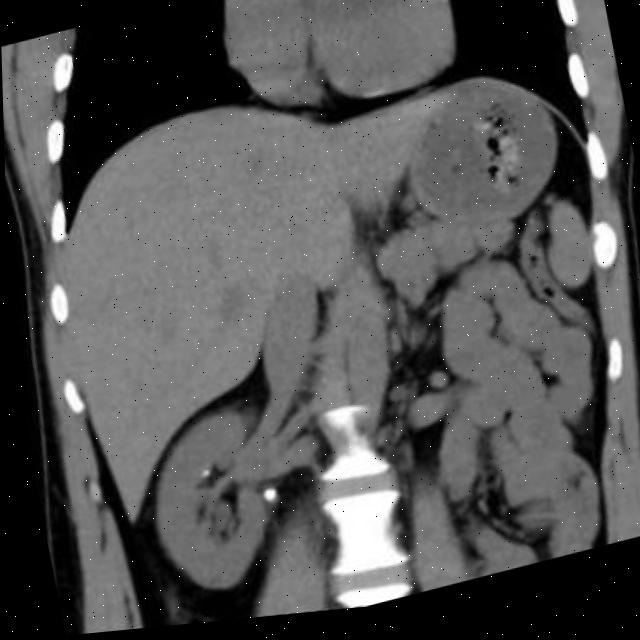Tas_Var: (254, 483, 279, 516), (196, 470, 209, 485), (200, 460, 212, 474)
